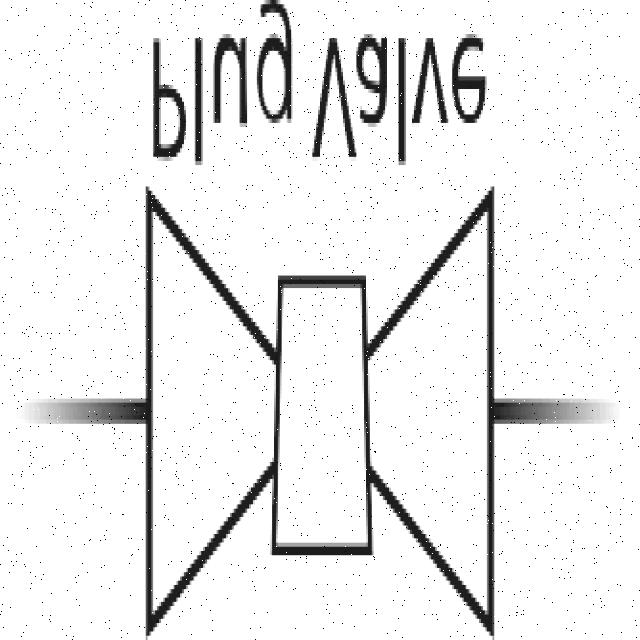Plug Valve: (62, 173, 570, 640)
